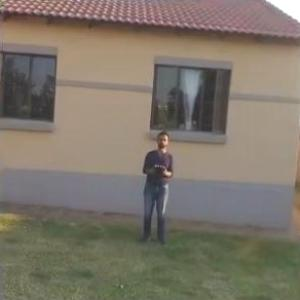follow: (134, 125, 176, 250)
